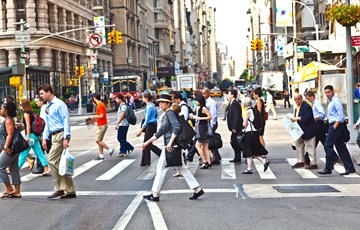pedestrian: (141, 91, 205, 202), (33, 82, 82, 202), (320, 85, 358, 177), (288, 93, 321, 174), (238, 97, 270, 174), (87, 92, 115, 158), (111, 93, 136, 157)
